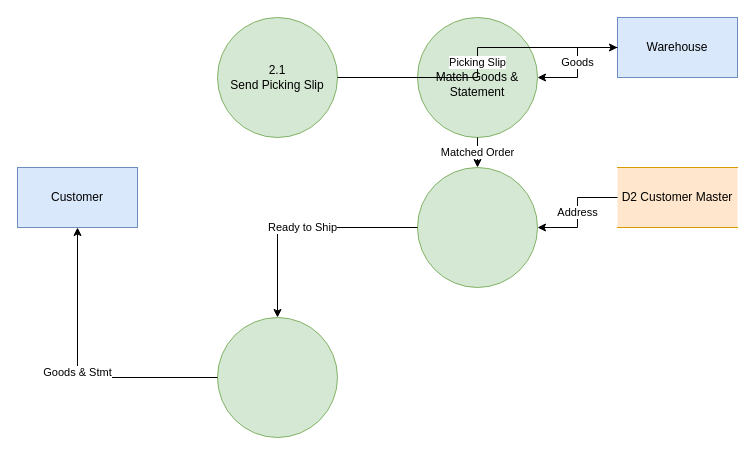
Some shapes in this 755 by 455 pixel diagram are drawn without their labels. The shapes that lost their labels are listed below. From the top down, each one's centre as x and y in pixels, then its label:
At [477,227]: "2.3 Get Address".
At [277,377]: "2.4 Ship to Customer".
